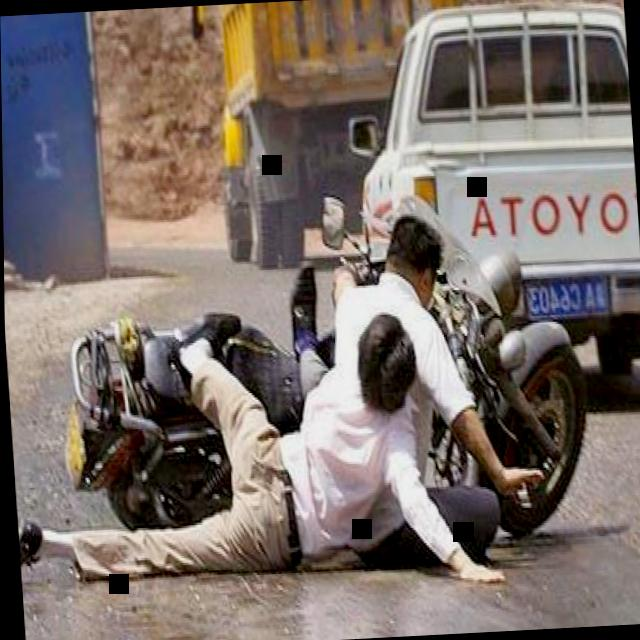Fall-Detected: (287, 193, 537, 552)
